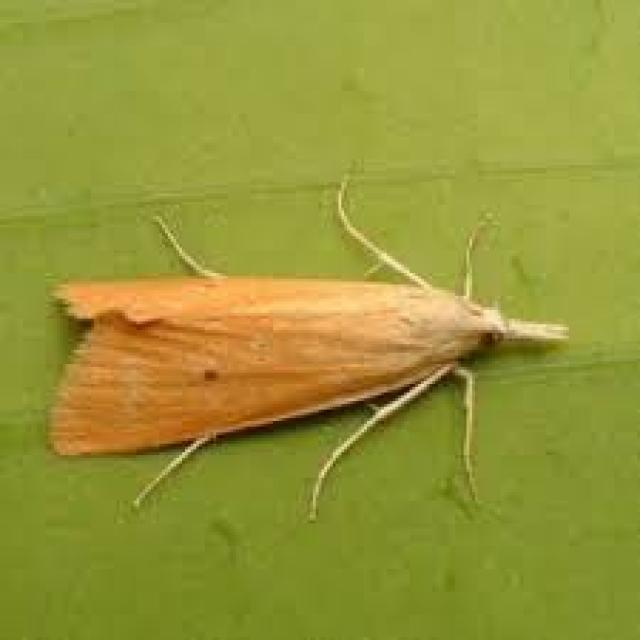yellow-stem-borer: (20, 147, 580, 541)
